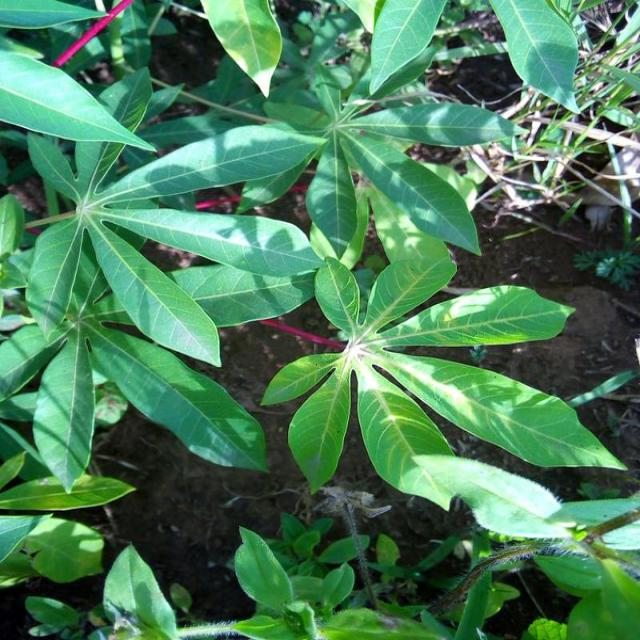cassava leaf: (259, 244, 627, 537)
